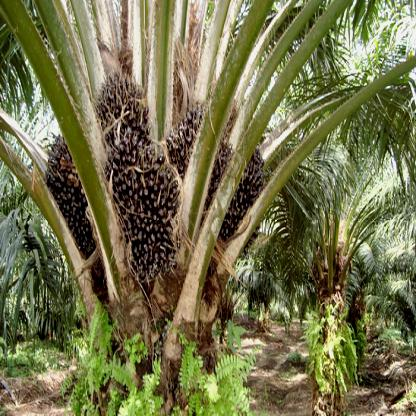palm-oil: (106, 137, 180, 276), (44, 128, 100, 260), (90, 70, 153, 155), (205, 142, 242, 235), (164, 94, 204, 178), (245, 142, 270, 204)
